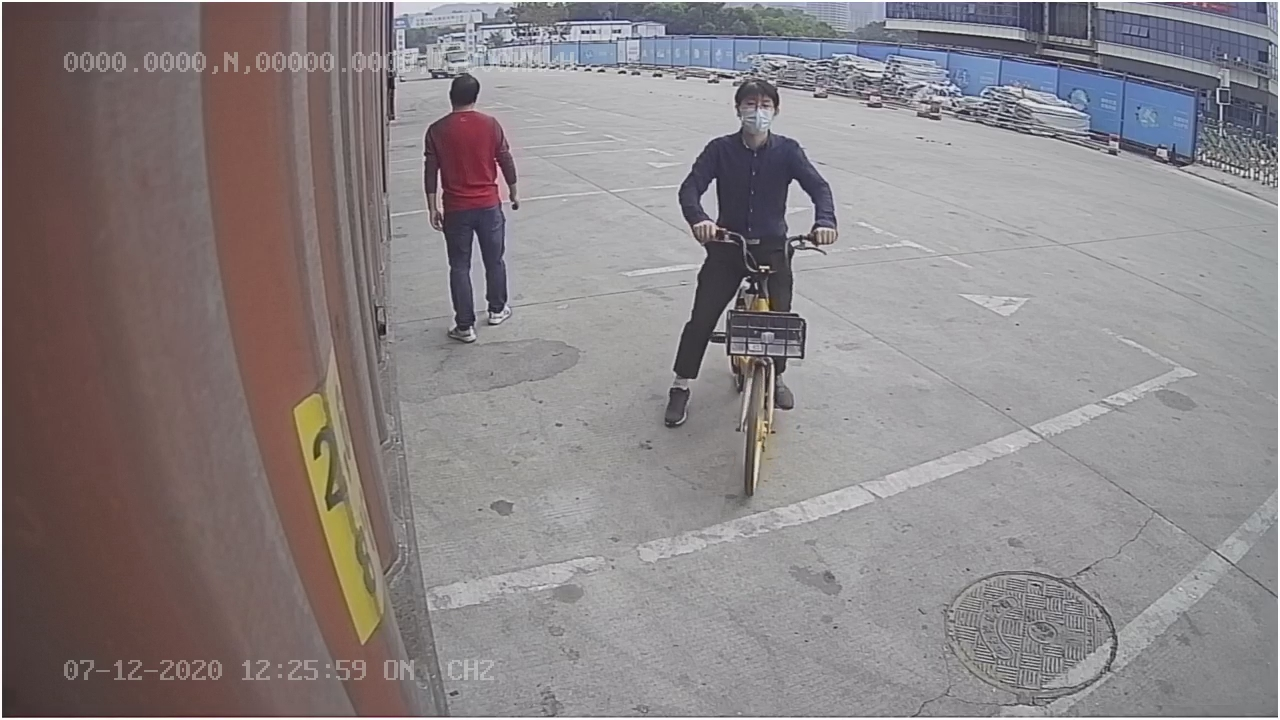person: (416, 69, 522, 349)
